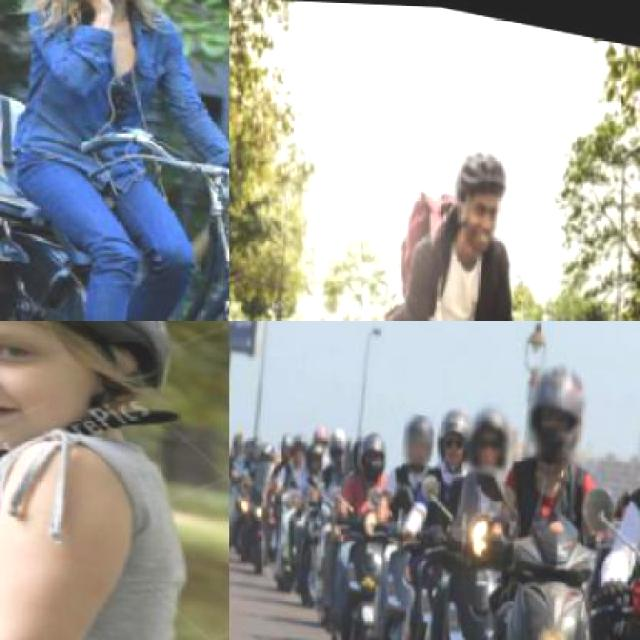With Helmet: (0, 320, 186, 485), (440, 132, 515, 262), (516, 348, 595, 464), (458, 395, 518, 476), (429, 402, 471, 472), (395, 408, 434, 466), (353, 427, 389, 479), (300, 434, 326, 475), (285, 427, 310, 465), (273, 428, 295, 461)
